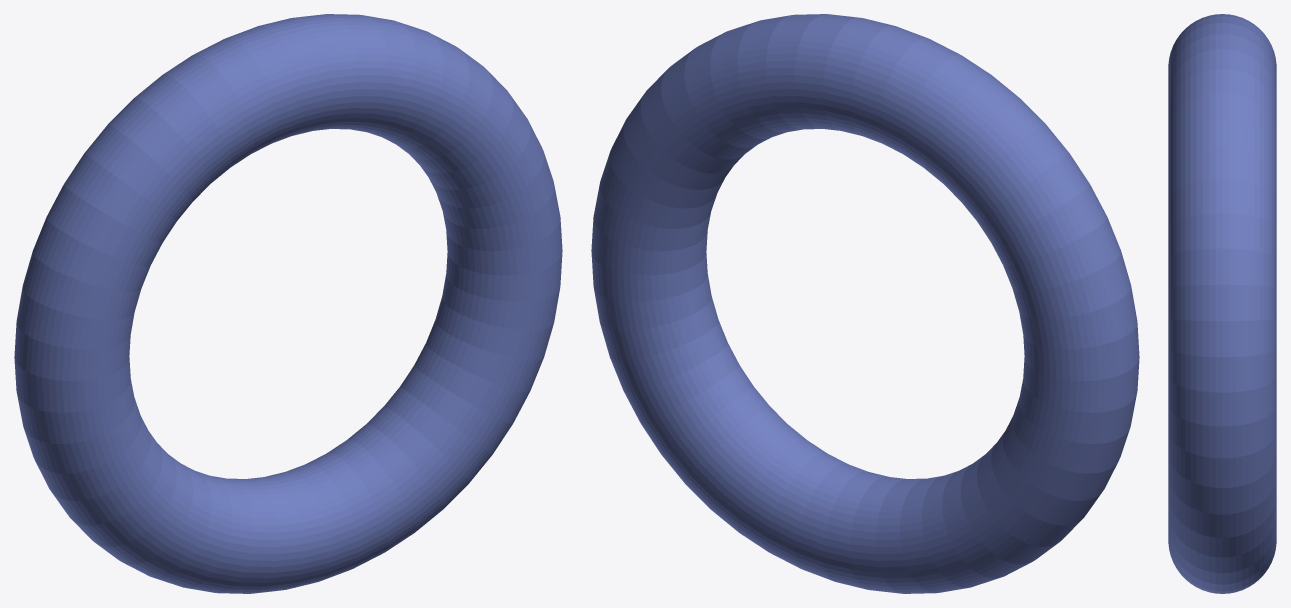
3 views of the same model, side by side, from view 1: azimuth 30°, elevation 25°; view 2: azimuth 150°, elevation 25°; view 3: azimuth 270°, elevation 25° (orthographic). The views are drawn at different scales.
Visible parts, largest first — view 1: world; view 2: world; view 3: world.
Part boxes in pixels (left/top/right/bottom): world: left=14, top=14, right=562, bottom=593; world: left=591, top=14, right=1139, bottom=593; world: left=1168, top=14, right=1276, bottom=593.
Bounding box in the file's own units: 16.4 × 16.37 × 3.06.
